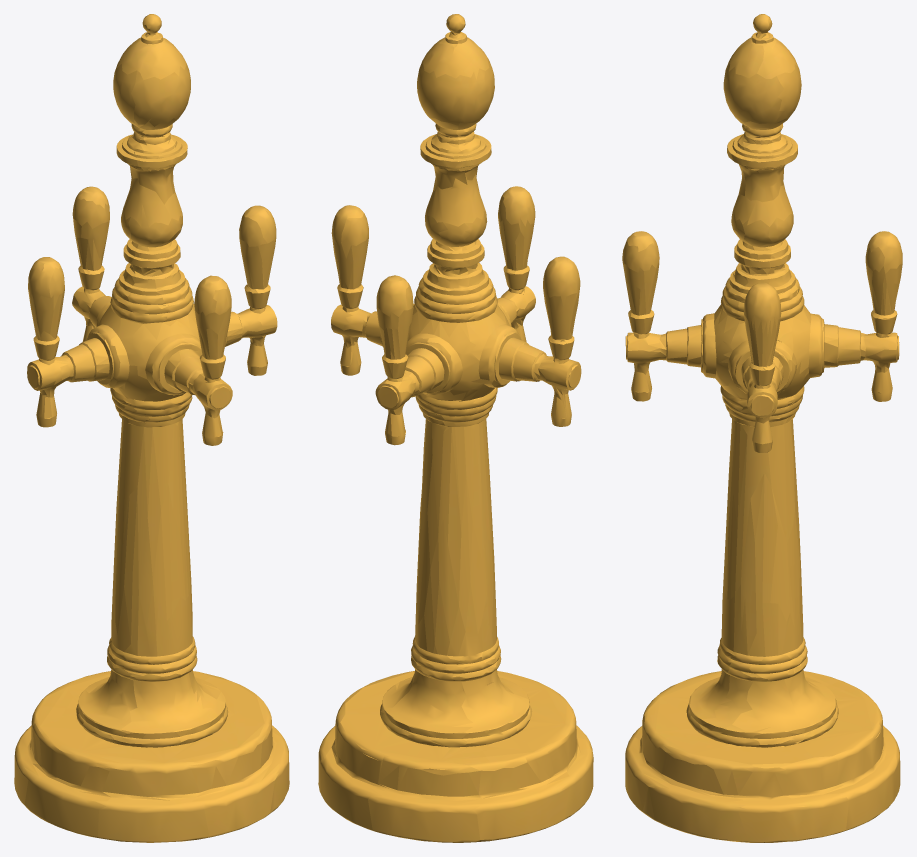
The model's file is taps.glb.
3 renders of one model, left to right at view 1: azimuth 30°, elevation 25°; view 2: azimuth 150°, elevation 25°; view 3: azimuth 270°, elevation 25°, orthographic.
Size of the model in its own units: 0.6285 by 1.9 by 0.6266.
Materials: 1 (1 with a texture image).
